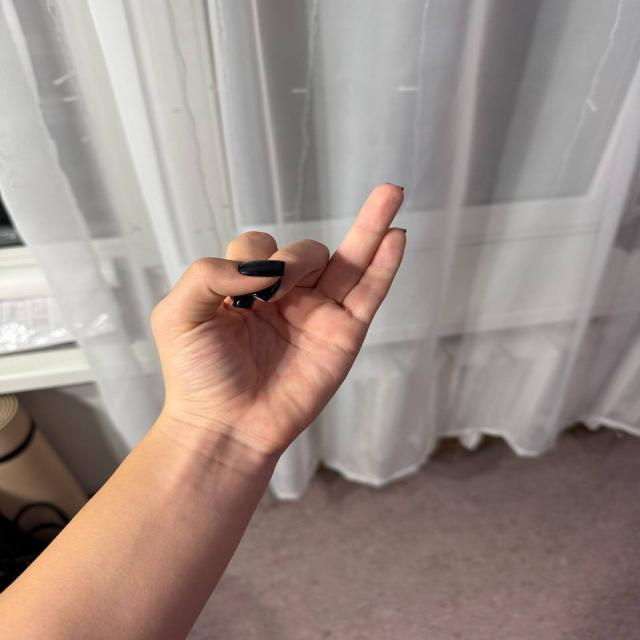i: (154, 168, 442, 454)
